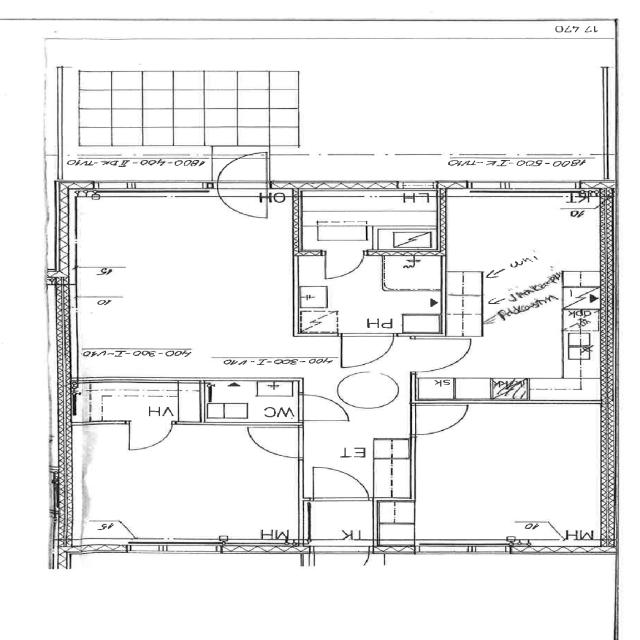door: (194, 380, 303, 425), (210, 147, 274, 222), (403, 334, 479, 375), (329, 331, 396, 372), (404, 398, 474, 437), (304, 463, 372, 503), (238, 422, 305, 461), (122, 421, 176, 454), (214, 189, 268, 220), (295, 394, 346, 423), (318, 251, 364, 281)
window: (453, 180, 587, 200), (110, 538, 227, 558), (84, 182, 212, 200), (414, 538, 515, 557)
zone: (403, 399, 618, 551), (64, 421, 308, 547), (425, 268, 611, 399), (434, 192, 618, 313), (281, 254, 455, 332), (298, 187, 440, 253), (62, 378, 190, 425), (195, 377, 303, 424), (378, 251, 442, 292)
